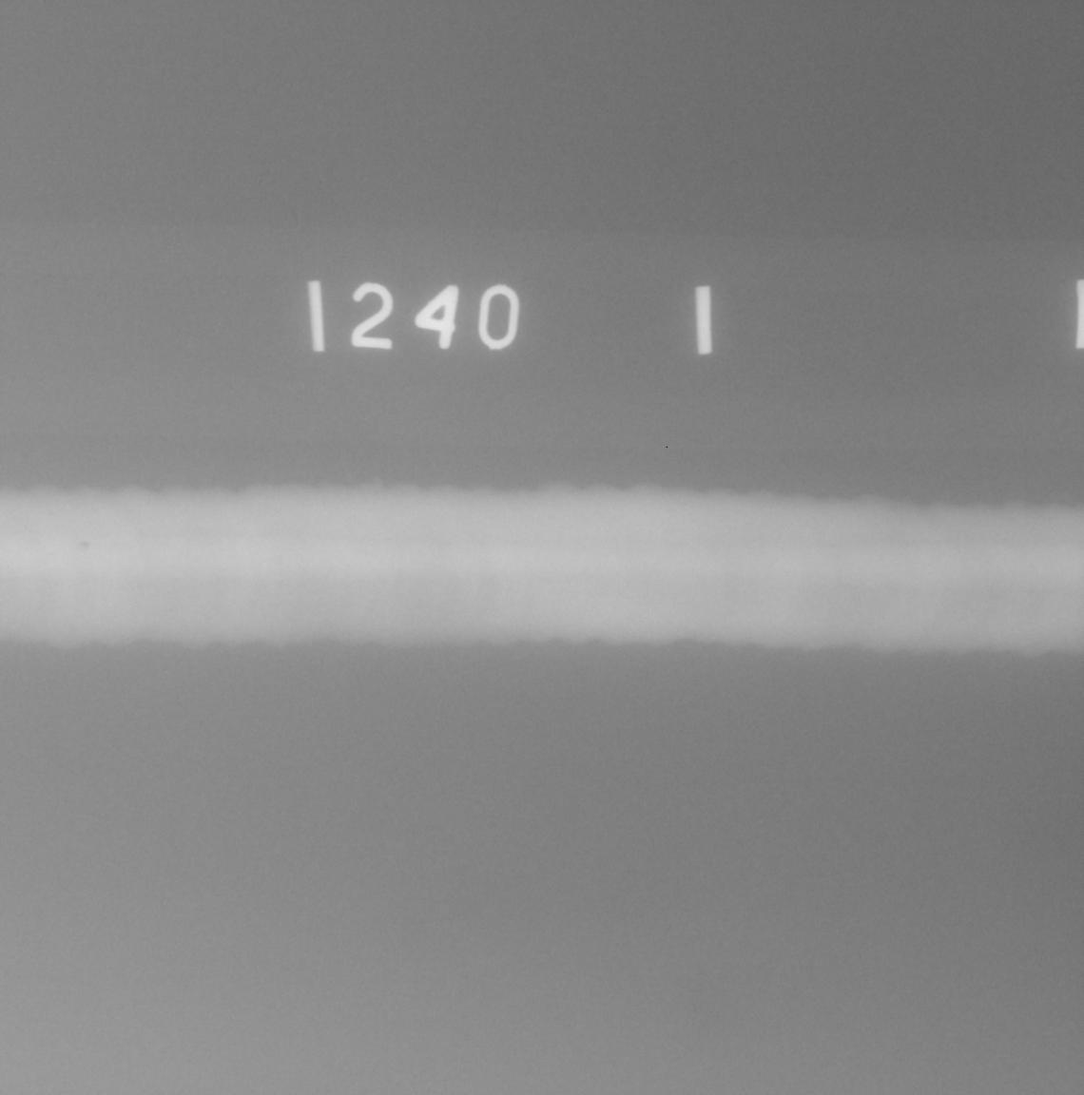Pore/Porosity: (78, 541, 89, 548)
